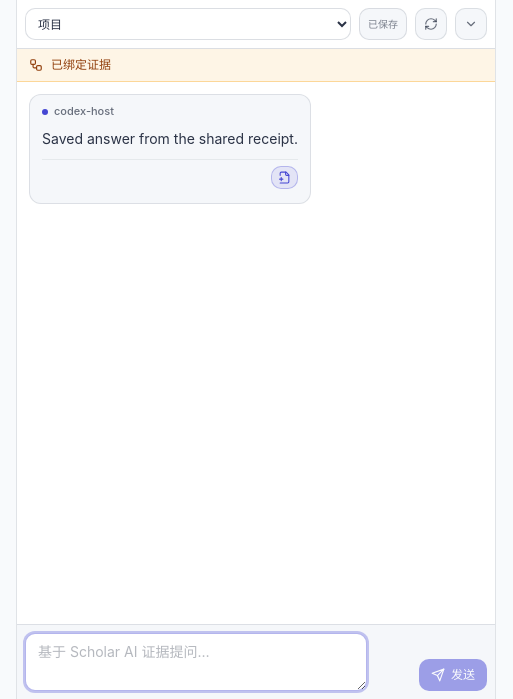
Scenario: AgentSidebar › shows visual observation loading and a safe failed-candidate detail
Check: the text "Saved answer from the shared receipt." is shown, box [42,127,298,151]
Click the button named "显示侧栏工具".
click(471, 24)  # box [455,8,487,40]
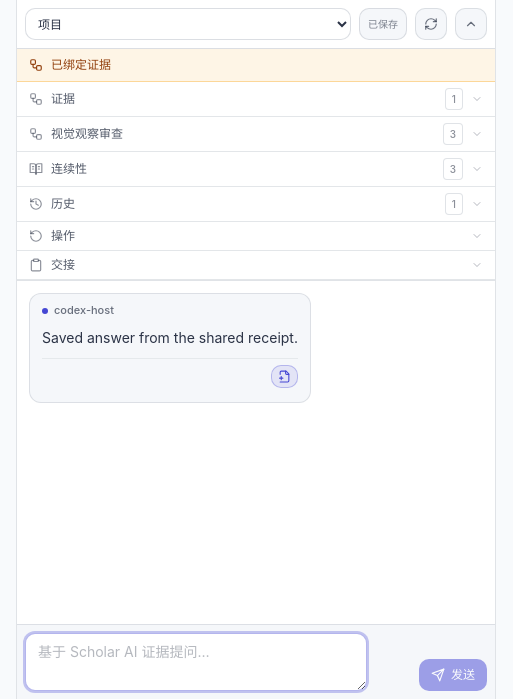
Click the button "视觉观察审查 3".
click(87, 134)  # box [17,117,495,151]
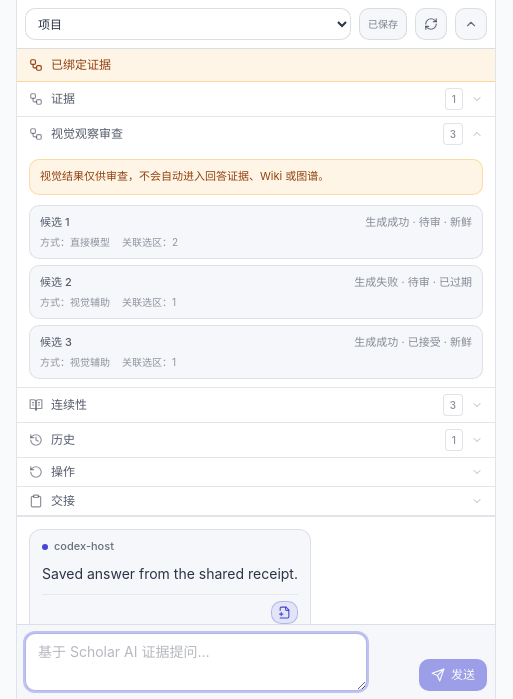
Click the button with aria-label "读取视觉观察候选 2".
click(376, 282)  # box [29,265,483,319]
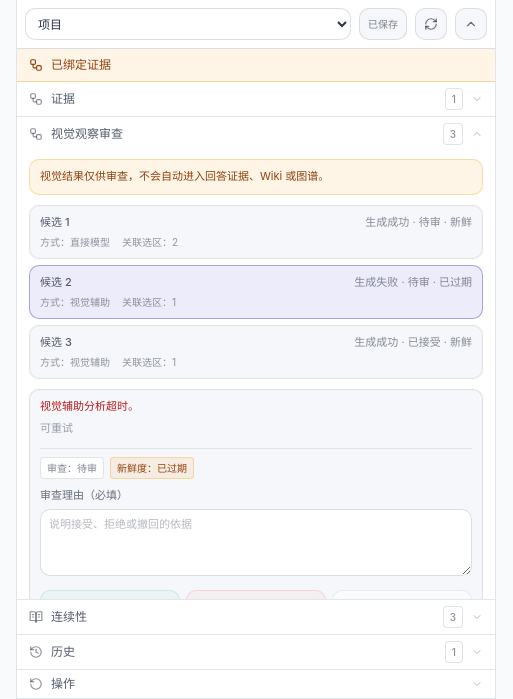
Check: the text "读取候选详情…" is shown, box [40,398,472,599]
Check: the text "视觉辅助分析超时。" is shown, box [40,399,139,413]
Check: the text "可重试" is shown, box [40,421,73,435]
